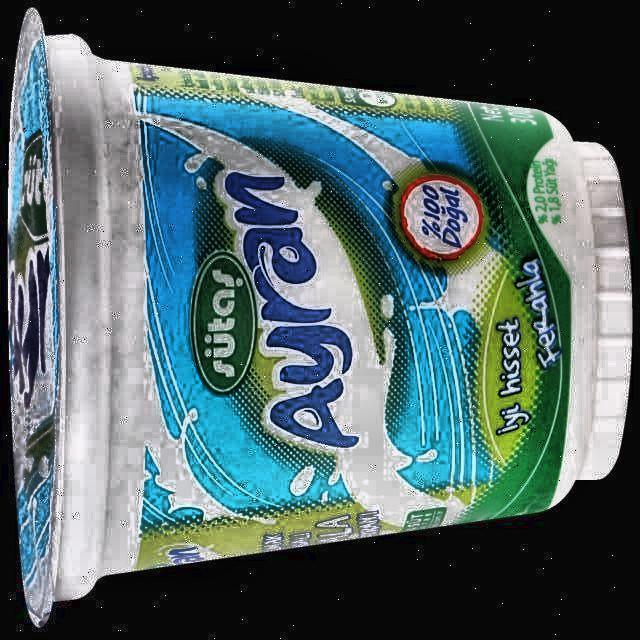plastic: (9, 10, 631, 621)
